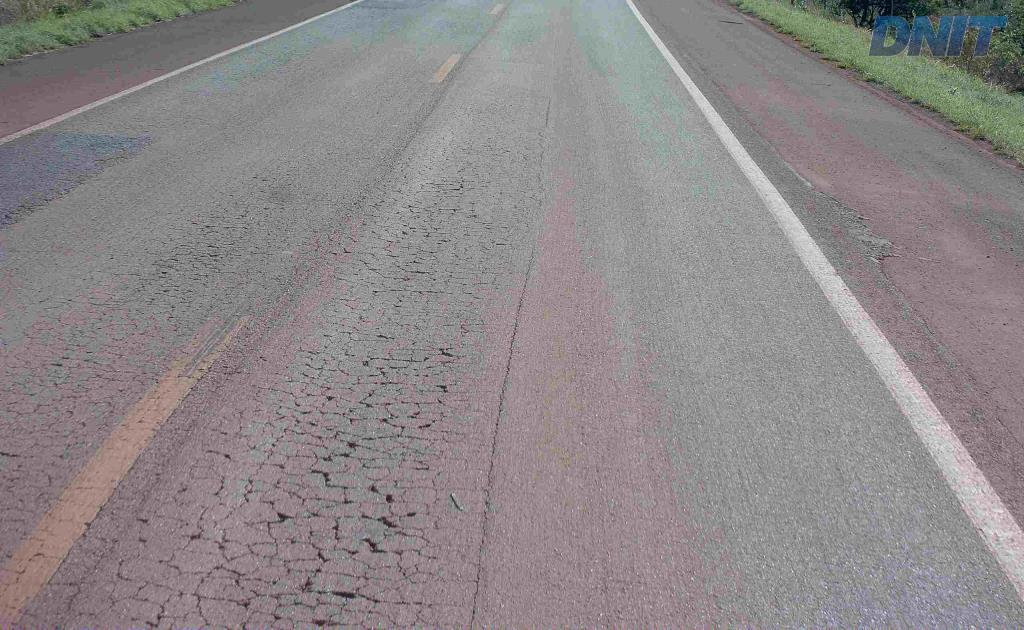crack: (268, 557, 376, 607)
